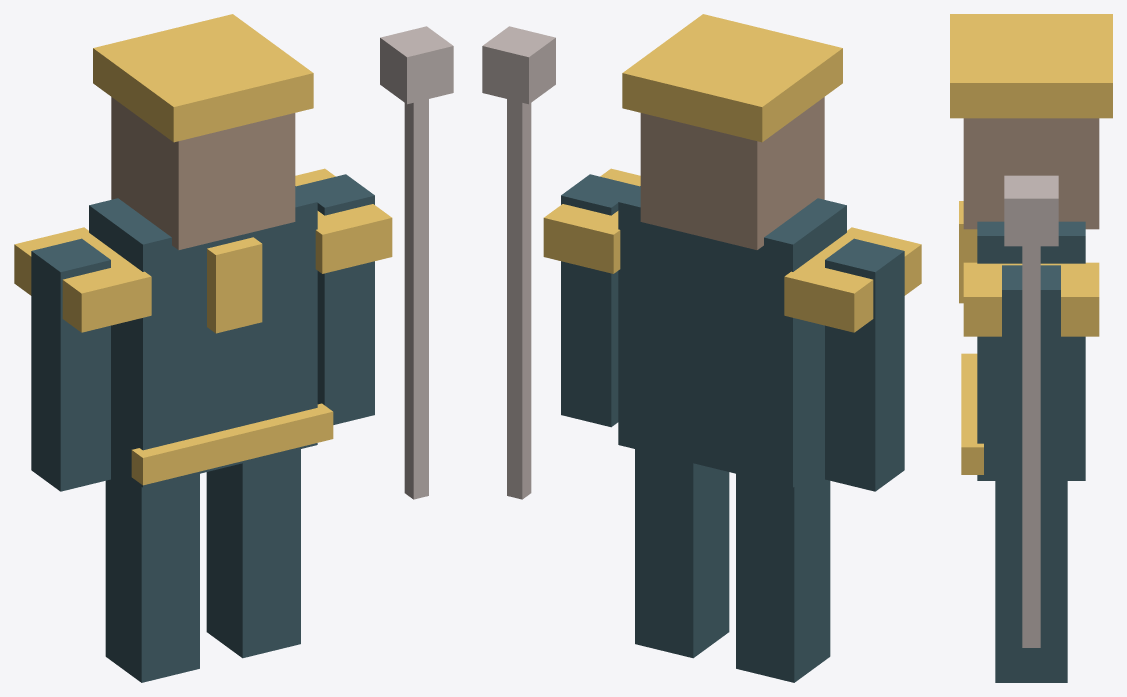
File: 01_luma_riftwalker_cartographer_near.glb
3 views of the same model, side by side, from view 1: azimuth 30°, elevation 25°; view 2: azimuth 150°, elevation 25°; view 3: azimuth 270°, elevation 25° (orthographic).
Parts seen in each view (by area): view 1: Luma Riftwalker, Cartographer near; view 2: Luma Riftwalker, Cartographer near; view 3: Luma Riftwalker, Cartographer near.
Part boxes in pixels (<box>): Luma Riftwalker, Cartographer near: <box>14,14,453,682</box>; Luma Riftwalker, Cartographer near: <box>482,14,921,682</box>; Luma Riftwalker, Cartographer near: <box>950,14,1112,682</box>.
Bounding box in the file's own units: 0.9821 × 1.4 × 0.3483.
